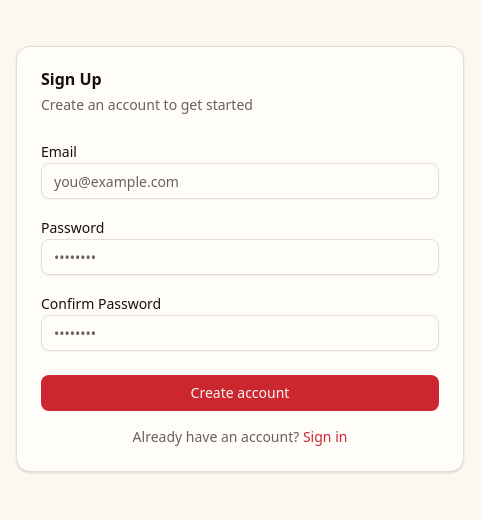
Signup › shows error when passwords do not match
Type "test@example.com" into the field labelled "Email". click: (240, 181)
box: [41,163,439,199]
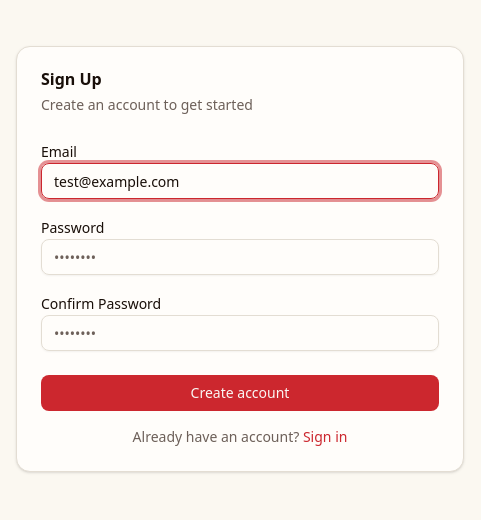
Type "password123" into the password field labelled "Password". click: (240, 257)
box: [41,239,439,275]
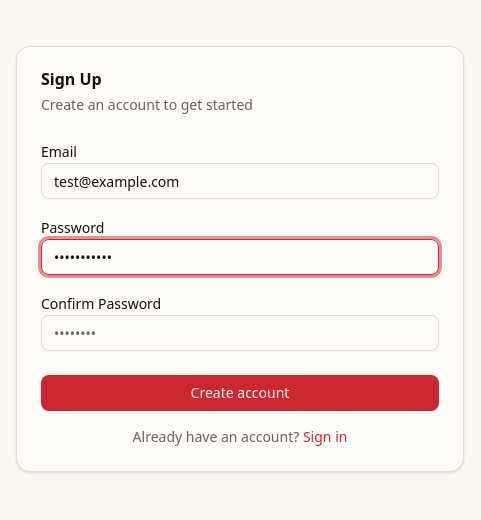
Type "different" into the password field labelled "Confirm Password". click: (240, 333)
box: [41,315,439,351]
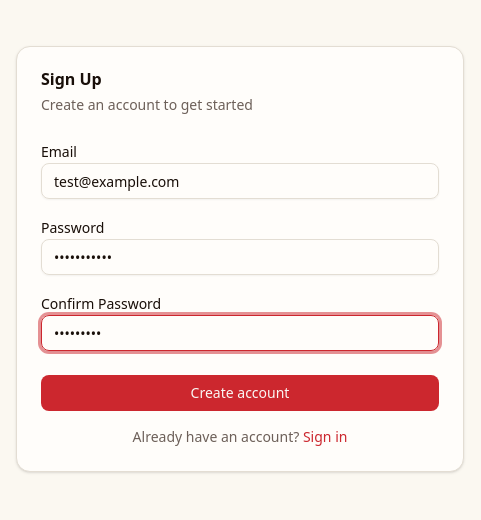
Click the button "Create account". click: (240, 393)
box: [41,375,439,411]
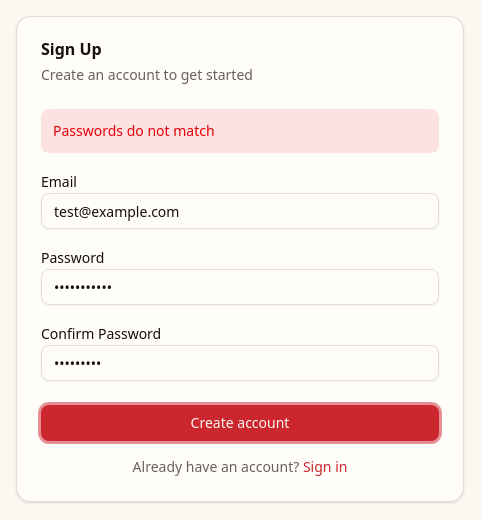
Result: the text "Passwords do not match" is shown at [41,109,439,153]
